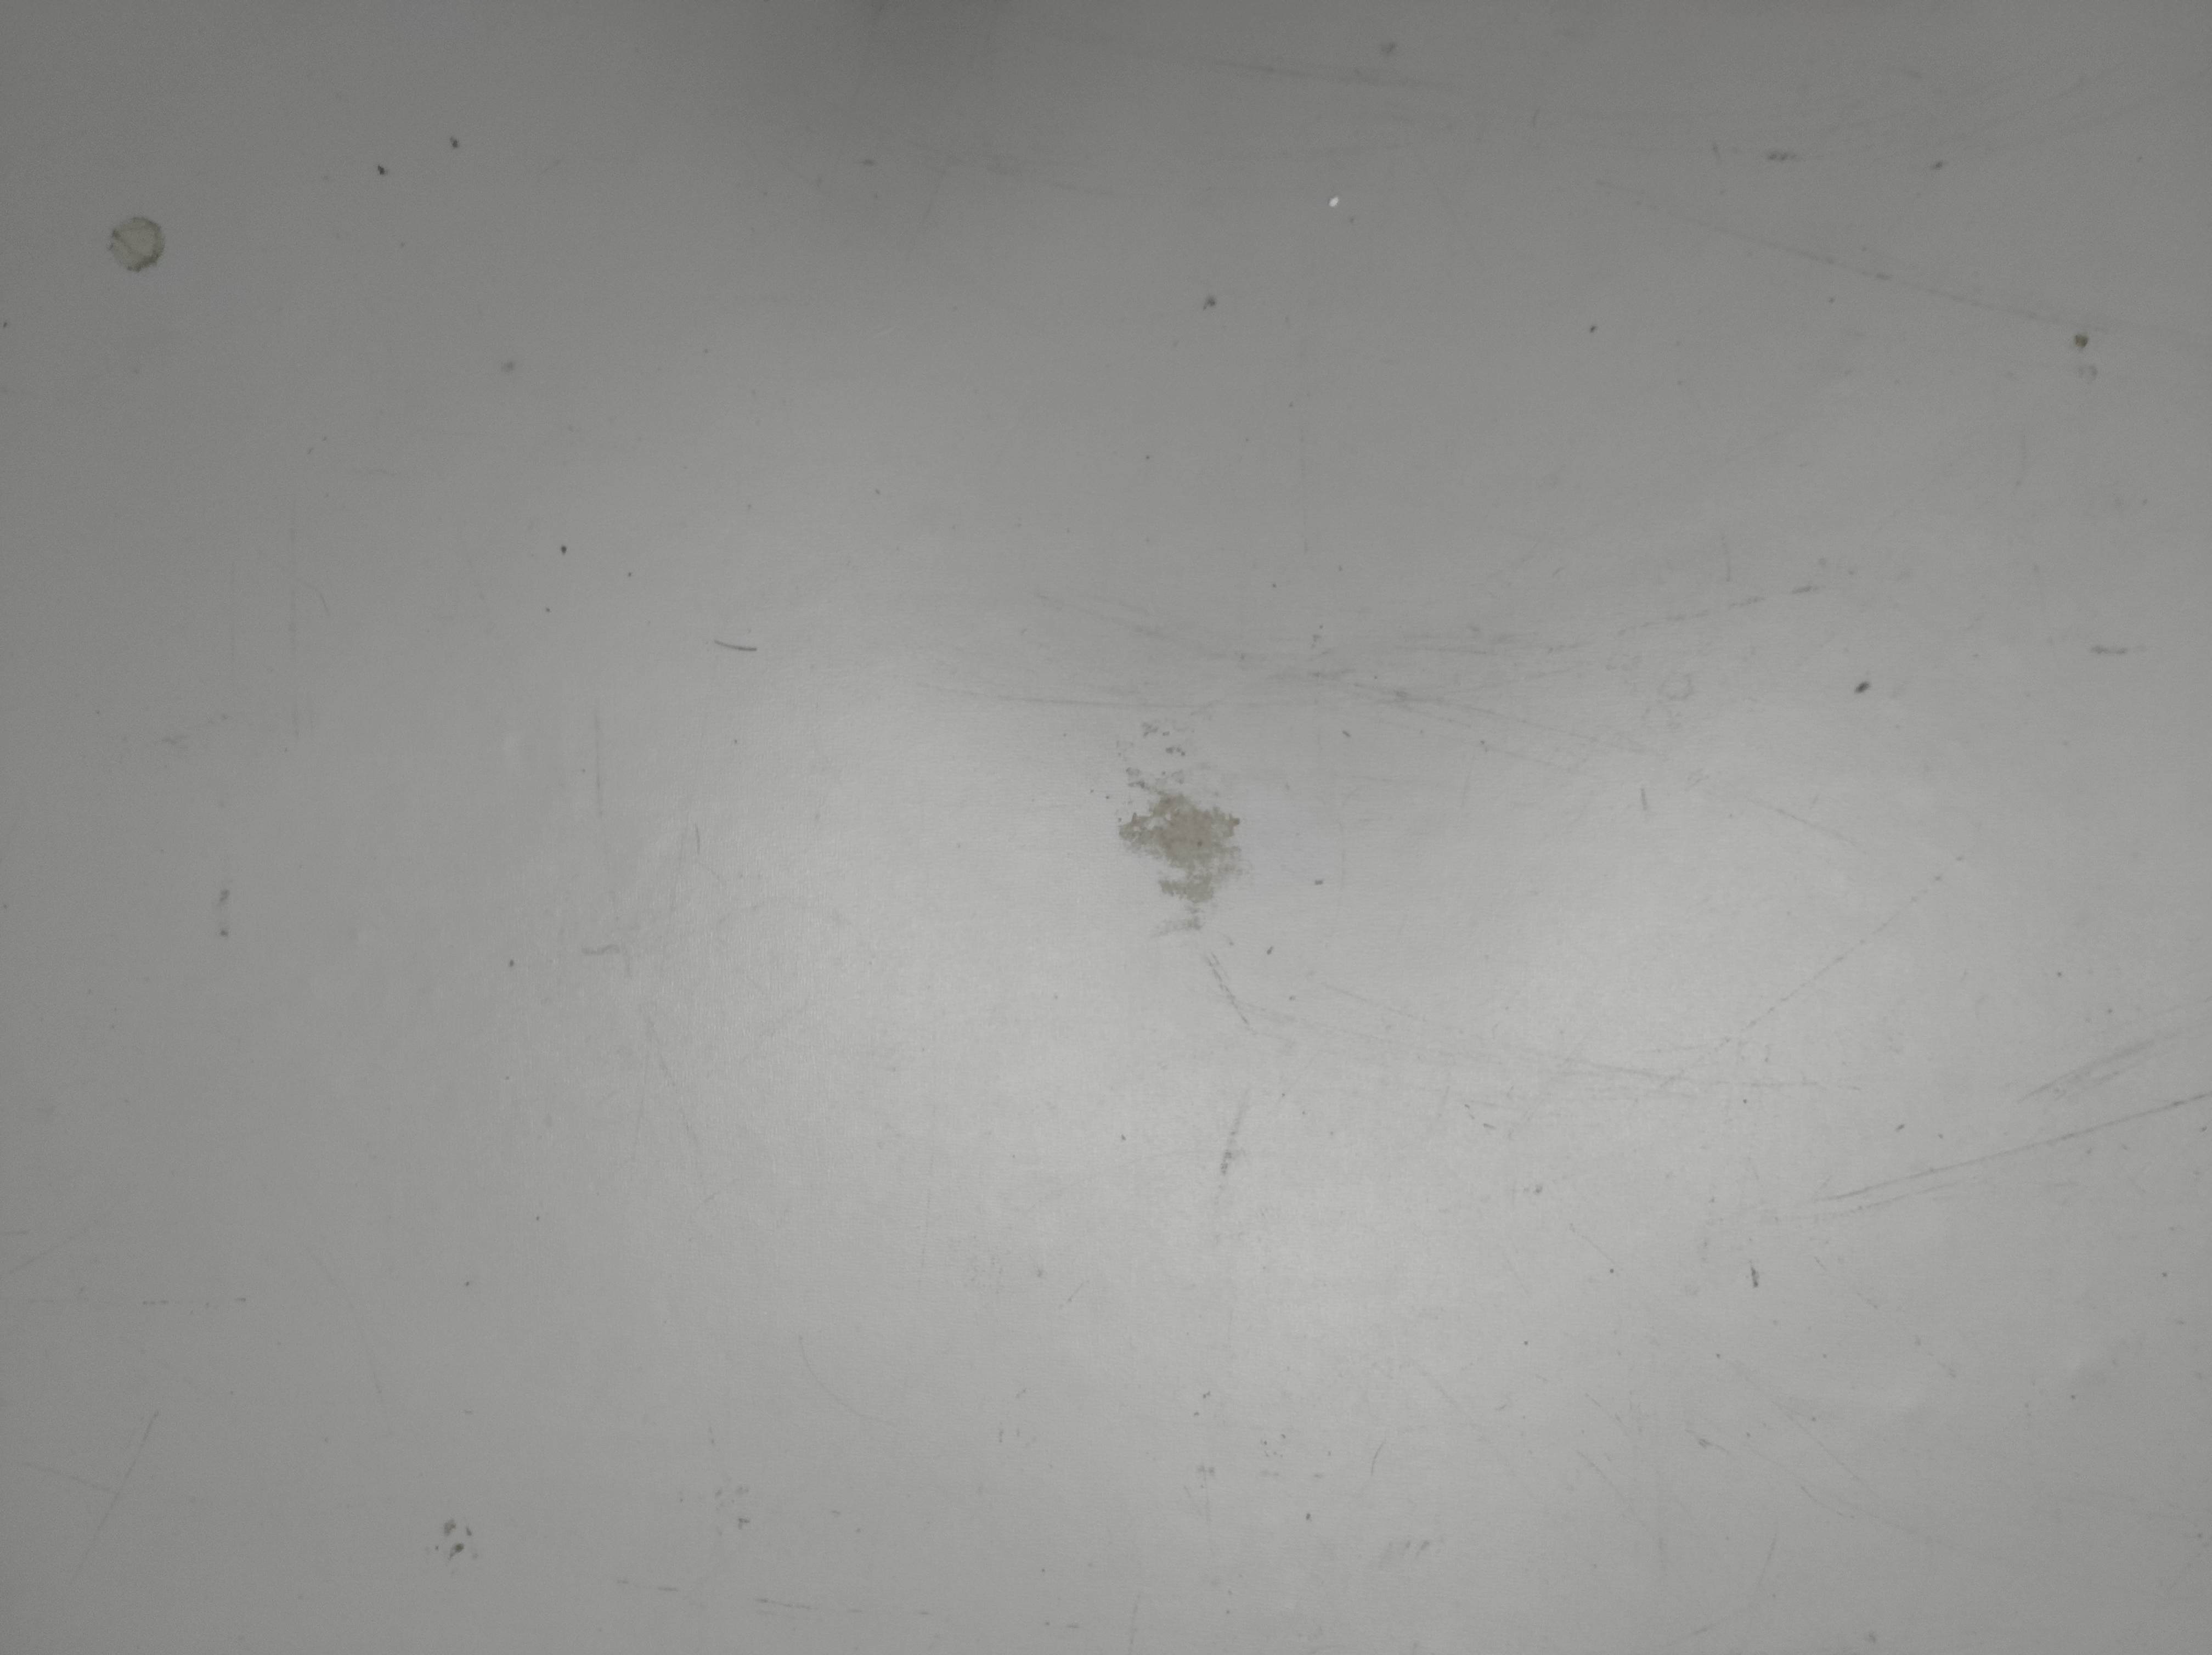grey spot: (1124, 774, 1241, 939), (106, 212, 165, 275)
